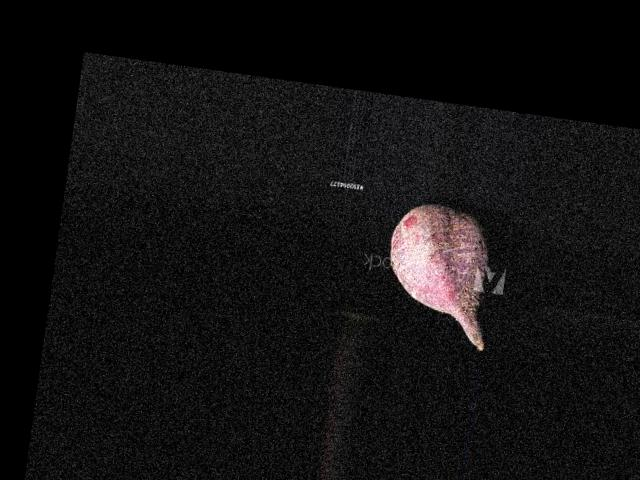beet: (377, 200, 501, 350)
